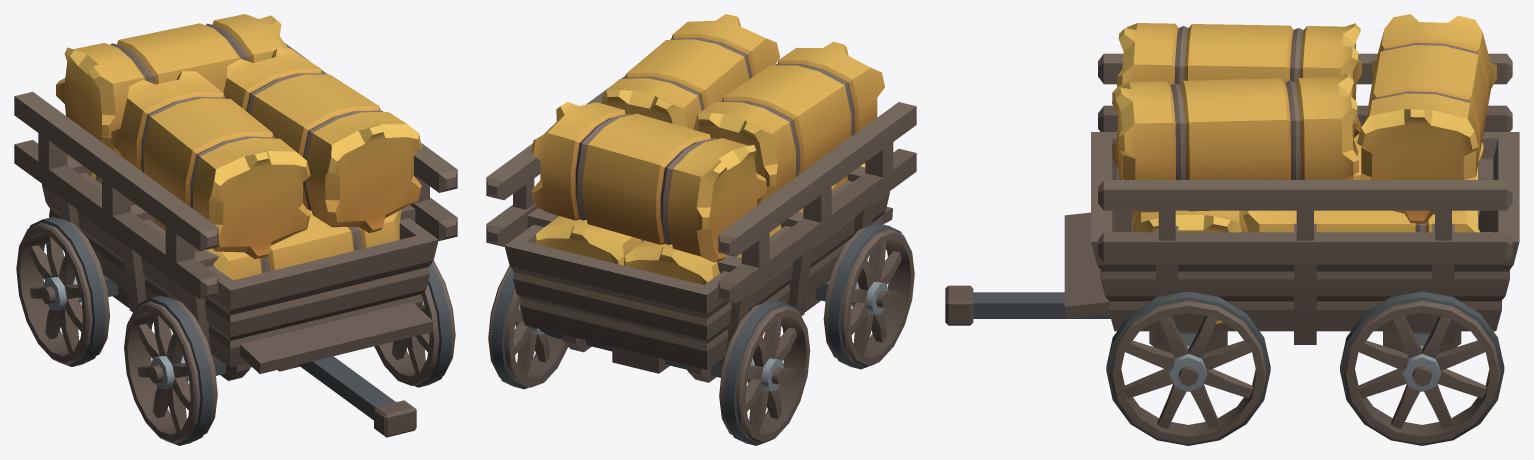
Rendered from wagon_hay.gltf.
The picture shows the model from 3 angles, left to right: view 1: azimuth 30°, elevation 25°; view 2: azimuth 150°, elevation 25°; view 3: azimuth 270°, elevation 25°; orthographic projection. The views are drawn at different scales.
Visible parts, largest first — view 1: wagon_hay, wagon_hay_wheel_front_right, wagon_hay_wheel_rear_right, wagon_hay_wheel_front_left; view 2: wagon_hay, wagon_hay_wheel_front_right, wagon_hay_wheel_rear_right, wagon_hay_wheel_rear_left; view 3: wagon_hay, wagon_hay_wheel_front_left, wagon_hay_wheel_rear_left.
Boxes of the visible parts, <box> form: wagon_hay: <box>14,14,457,437</box>; wagon_hay_wheel_front_right: <box>124,295,217,445</box>; wagon_hay_wheel_rear_right: <box>16,216,109,366</box>; wagon_hay_wheel_front_left: <box>374,260,455,387</box>; wagon_hay: <box>486,14,916,382</box>; wagon_hay_wheel_front_right: <box>823,223,914,369</box>; wagon_hay_wheel_rear_right: <box>719,300,810,445</box>; wagon_hay_wheel_rear_left: <box>488,266,568,389</box>; wagon_hay: <box>945,14,1519,353</box>; wagon_hay_wheel_front_left: <box>1106,291,1270,445</box>; wagon_hay_wheel_rear_left: <box>1340,291,1504,445</box>.
Size of the model in its own units: 2.97 by 3.05 by 4.99.
Materials: 1 (1 with a texture image).
